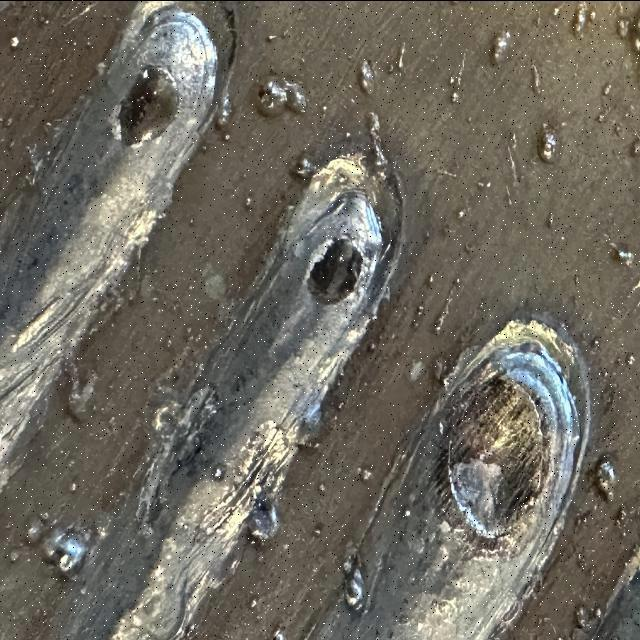Excess Reinforcement: (143, 385, 218, 475), (20, 92, 90, 187)
Spatters: (42, 527, 90, 575), (259, 75, 306, 115), (344, 545, 365, 610), (435, 278, 459, 332), (616, 11, 640, 48), (539, 123, 558, 162), (596, 460, 616, 497), (215, 90, 232, 130), (359, 60, 375, 93), (495, 30, 511, 62), (295, 155, 316, 177), (26, 518, 44, 542), (531, 63, 541, 93), (618, 248, 634, 265), (458, 50, 466, 82), (576, 605, 589, 622), (629, 137, 640, 157), (214, 463, 225, 480), (272, 627, 286, 640), (360, 467, 372, 480), (399, 42, 404, 68), (40, 512, 50, 523), (10, 35, 19, 47), (602, 83, 611, 95), (245, 193, 252, 208), (314, 523, 321, 537), (221, 130, 230, 140), (594, 607, 602, 617), (592, 337, 600, 347), (250, 598, 258, 607), (319, 482, 326, 492), (628, 353, 635, 363), (452, 92, 459, 102), (70, 482, 76, 492), (458, 210, 465, 218), (558, 635, 566, 640), (250, 536, 256, 542), (450, 77, 455, 83), (346, 132, 351, 137)
